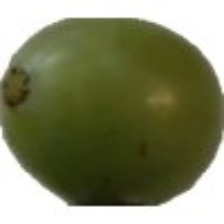grapes: (25, 29, 199, 172)
